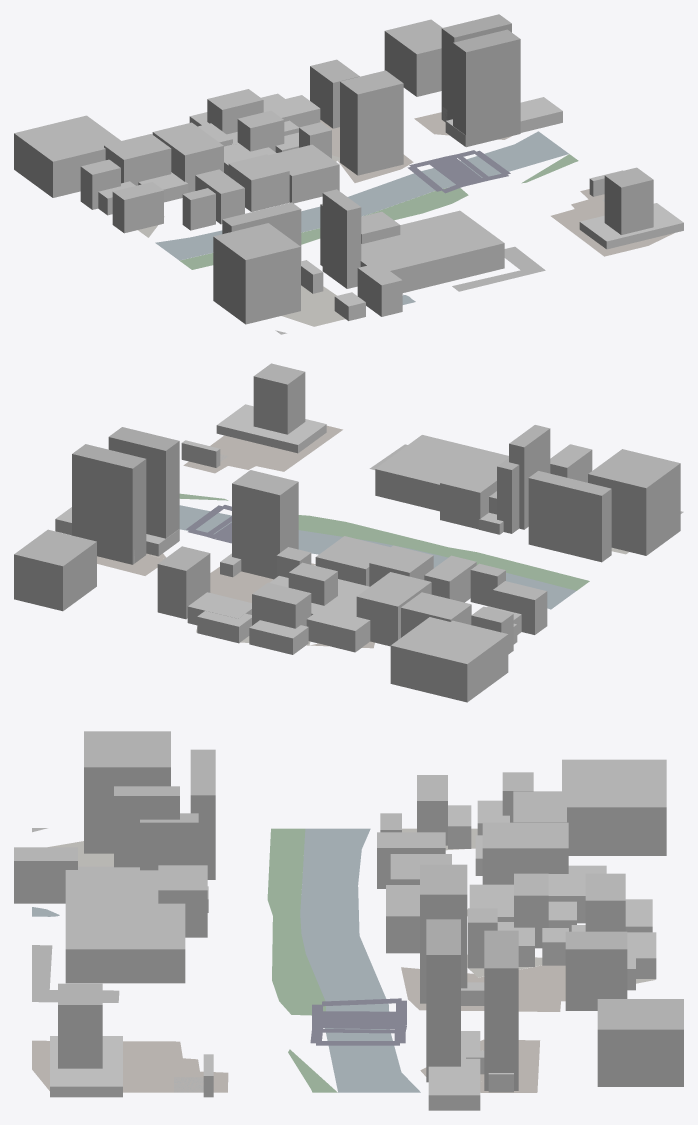
Rendered from 119_98_mid.glb.
3 views of the same model, one above another, from view 1: azimuth 30°, elevation 25°; view 2: azimuth 150°, elevation 25°; view 3: azimuth 270°, elevation 25° (orthographic). The views are drawn at different scales.
Size of the model in its own units: 572 by 113 by 537.
